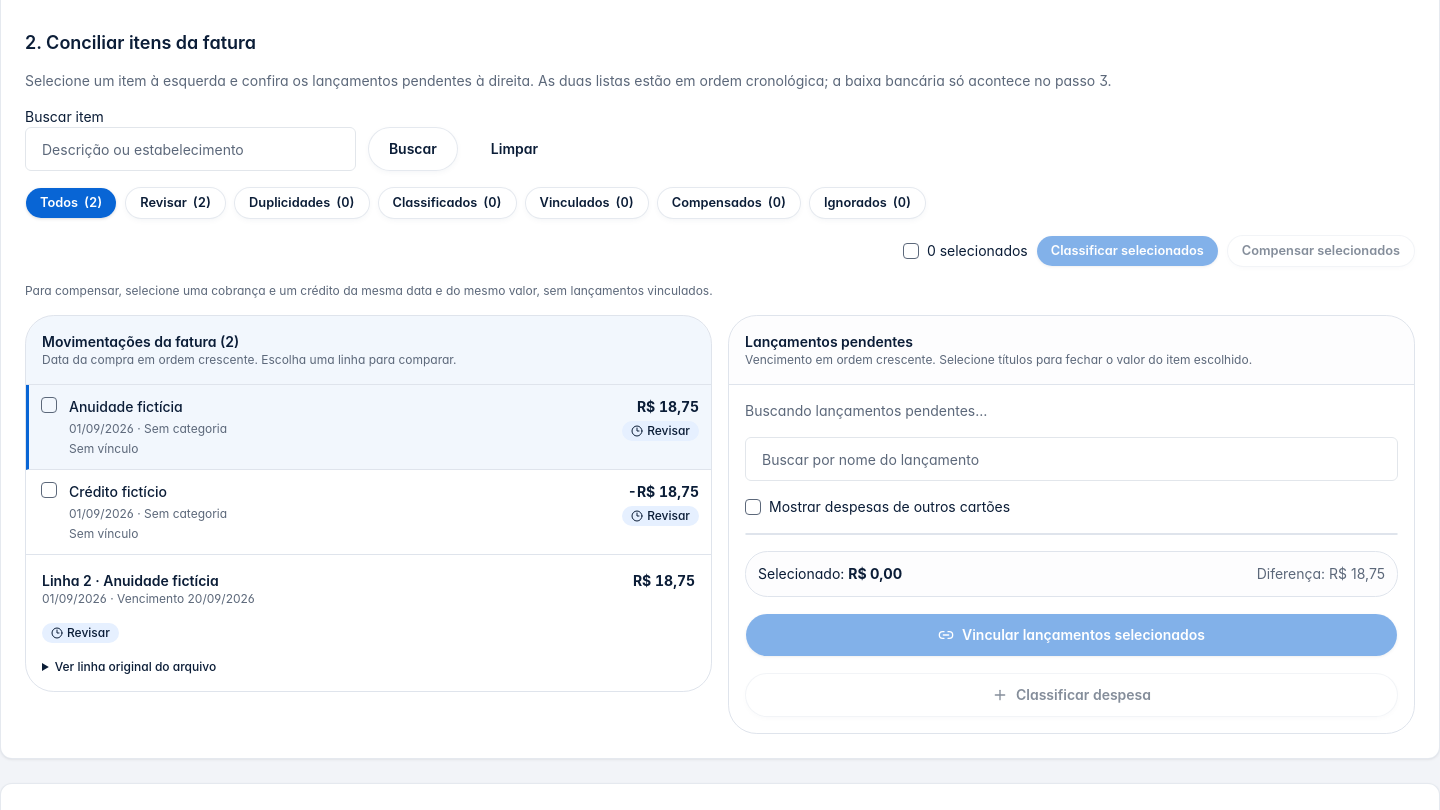
Scenario: erro do servidor mantém confirmação aberta e permite corrigir
(page scrolled)
Click the checkbox named "Selecionar Anuidade fictícia para classificação" at (49,405), box top-left (41, 397), bottom-right (57, 413)
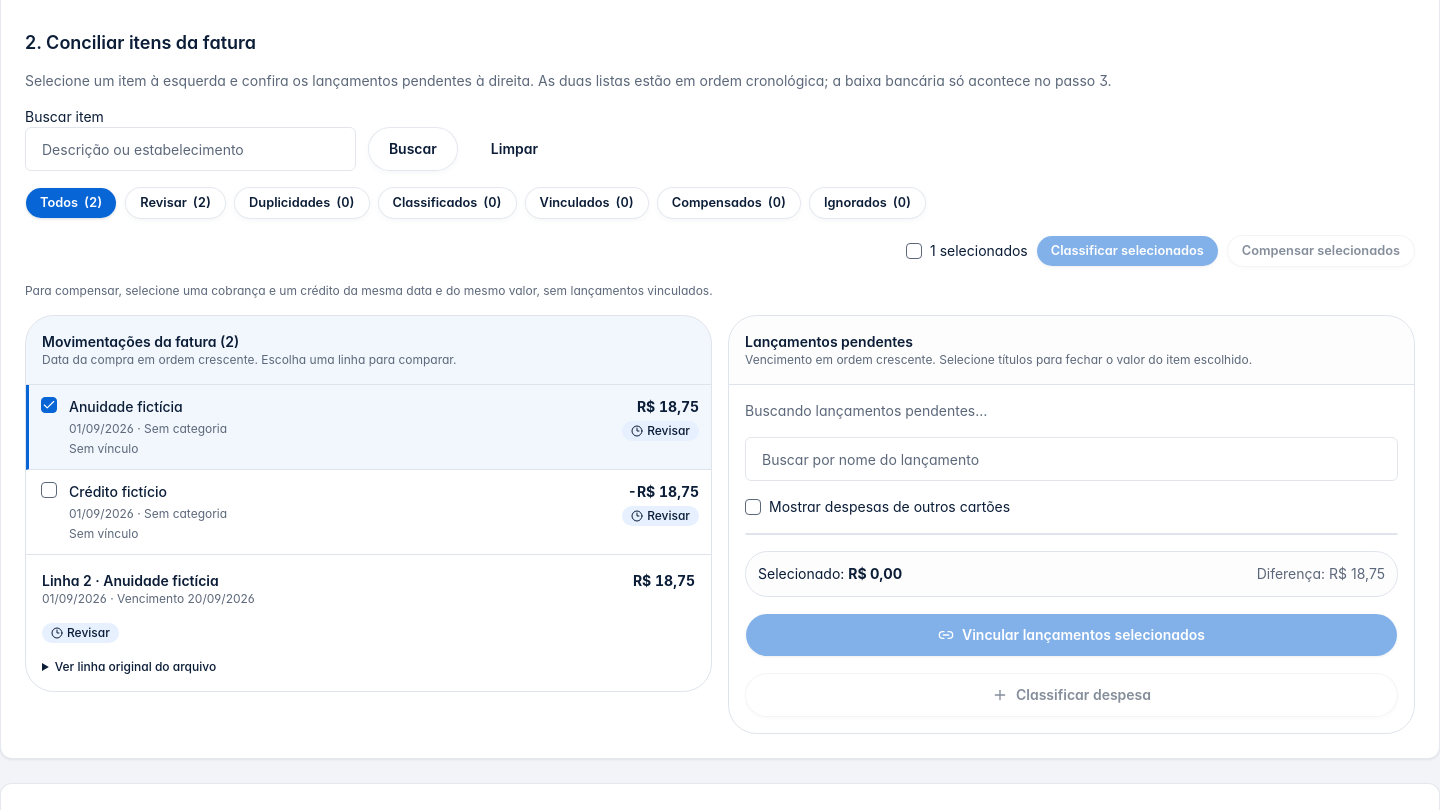
Click the checkbox named "Selecionar Crédito fictício para classificação" at (49,490), box top-left (41, 482), bottom-right (57, 498)
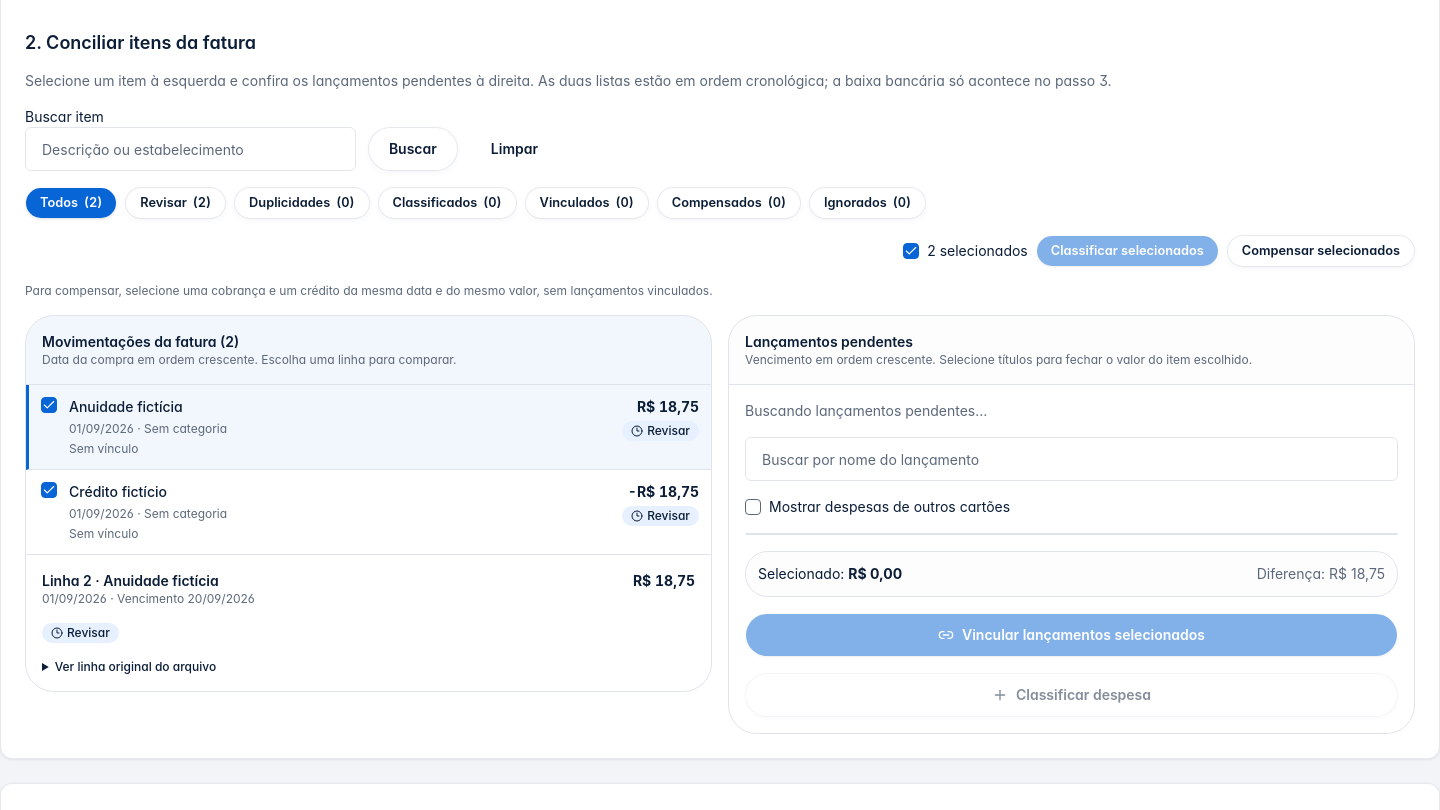
Click the button "Compensar selecionados" at (1321,251), box top-left (1227, 235), bottom-right (1415, 267)
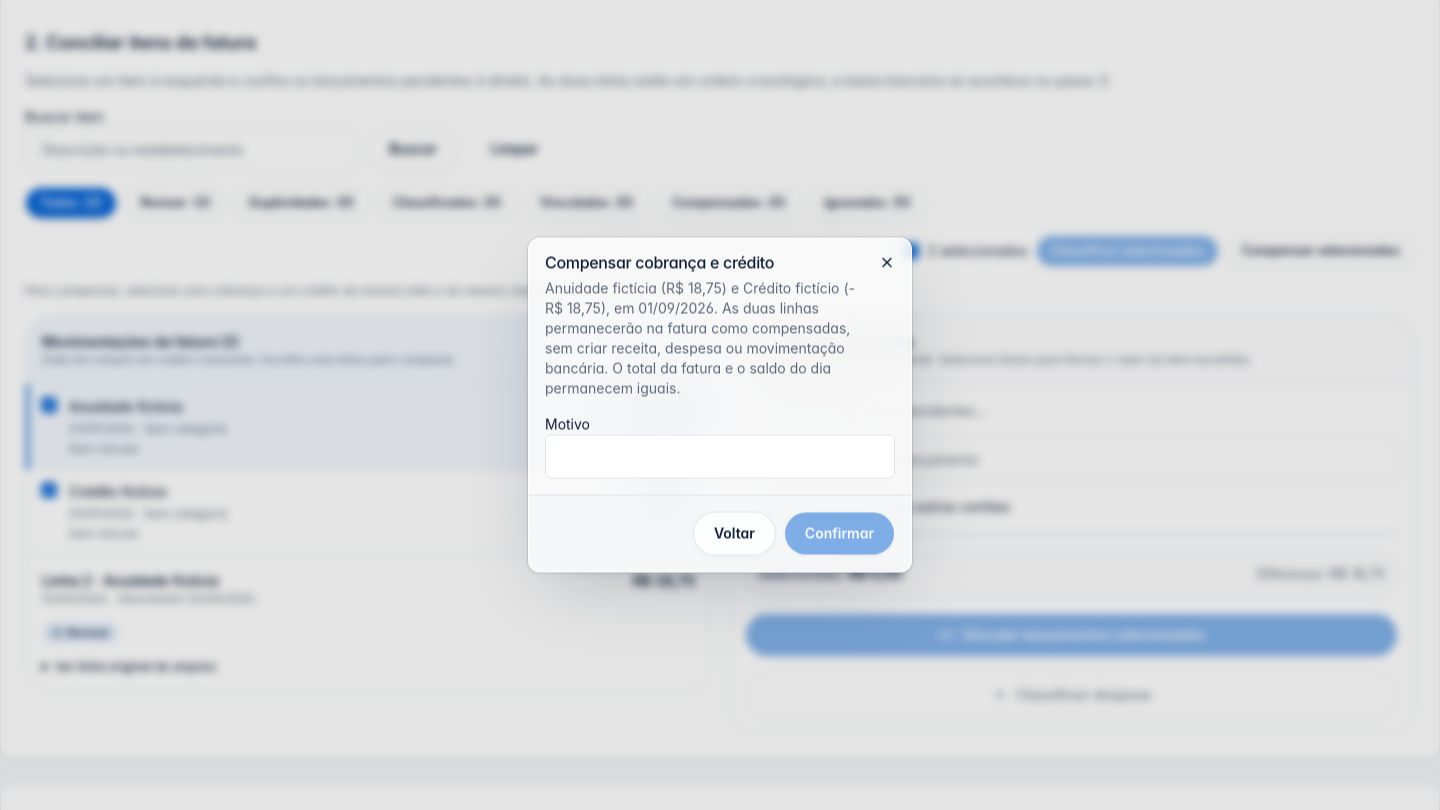
Type "Compensação fictícia" into the field labelled "Motivo" at (720,456), box top-left (545, 434), bottom-right (895, 478)
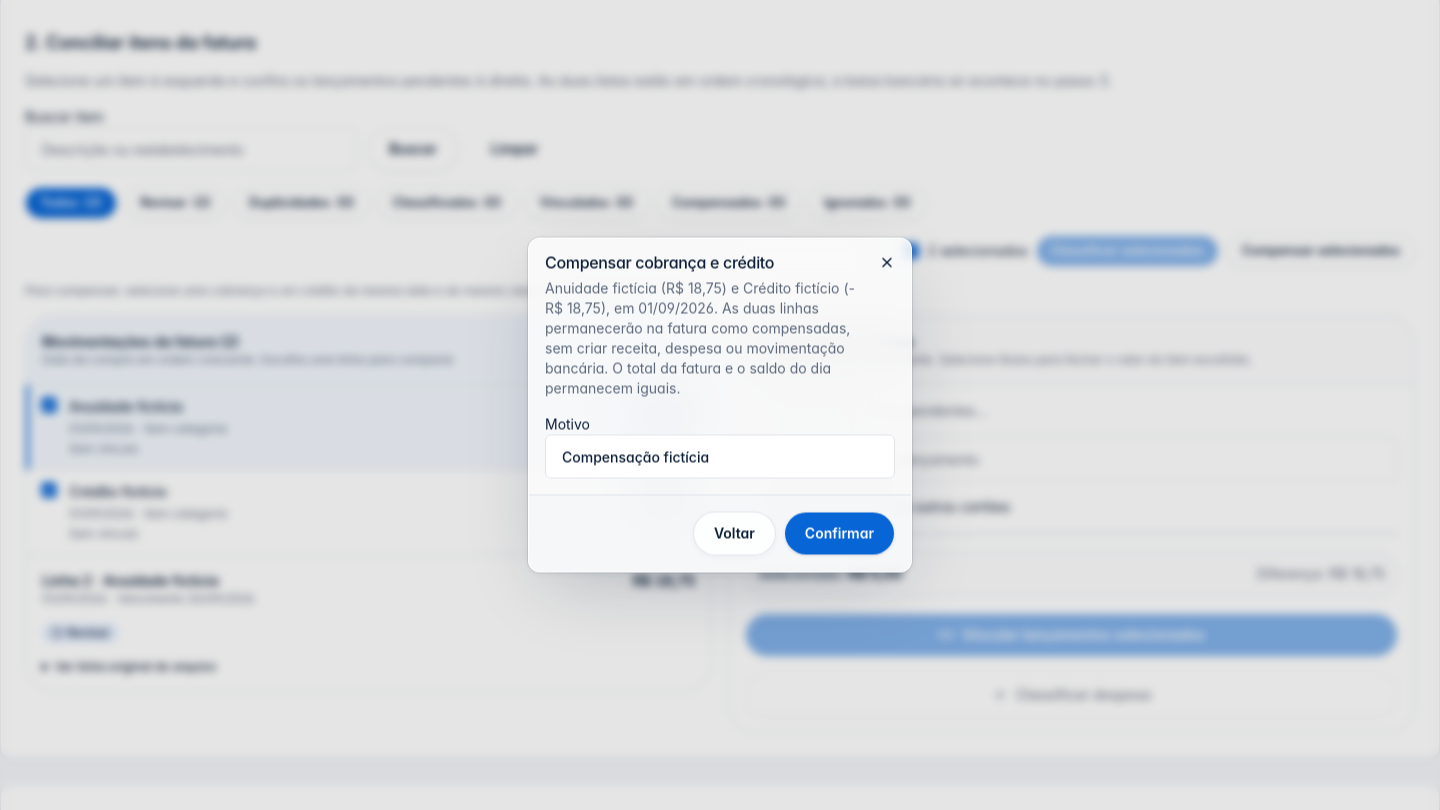
Click the button "Confirmar" at (839,534), box top-left (784, 512), bottom-right (895, 556)
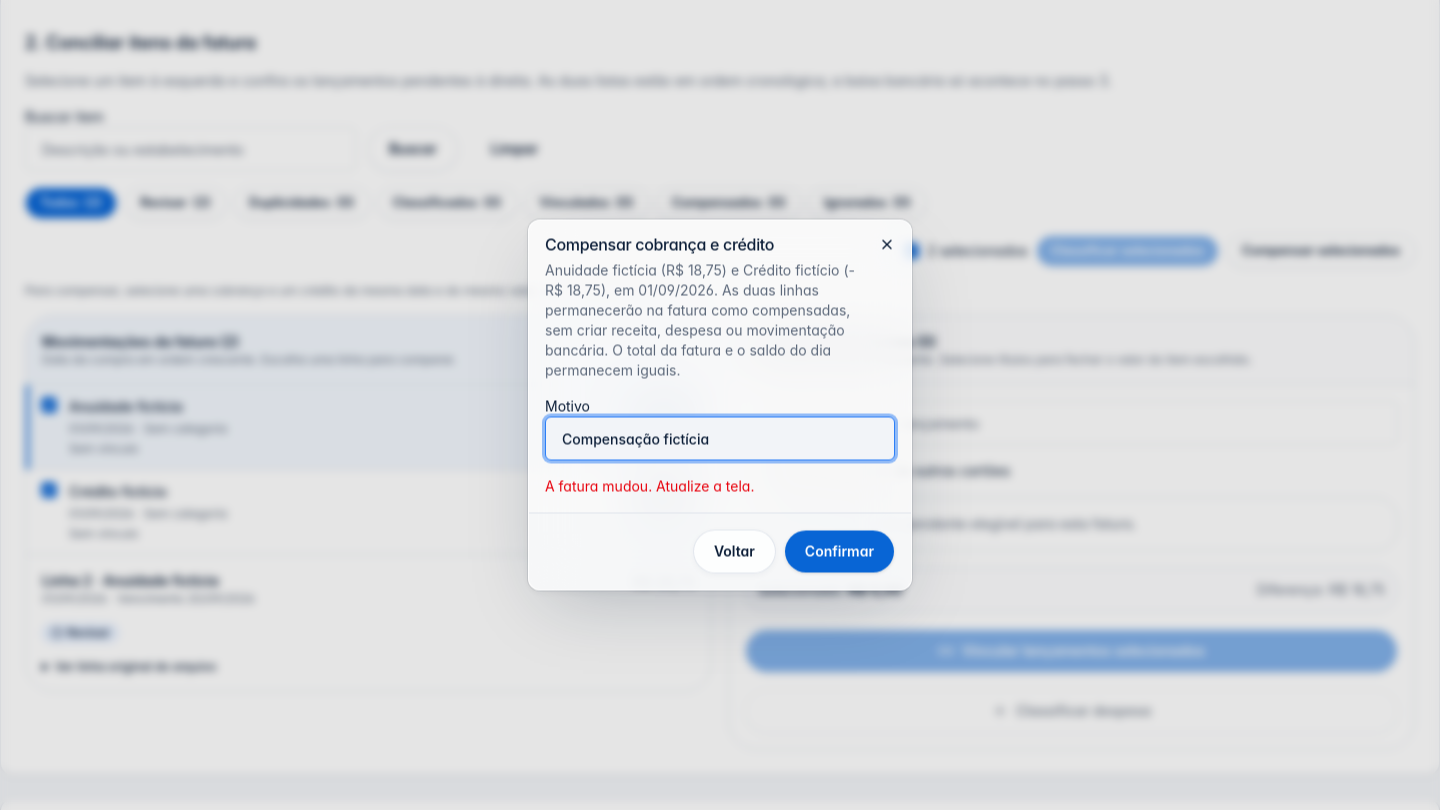
Expected: the dialog is shown, top-left (528, 220), bottom-right (912, 590)
Expected: the message "A fatura mudou. Atualize a tela." is shown, top-left (545, 478), bottom-right (754, 494)
